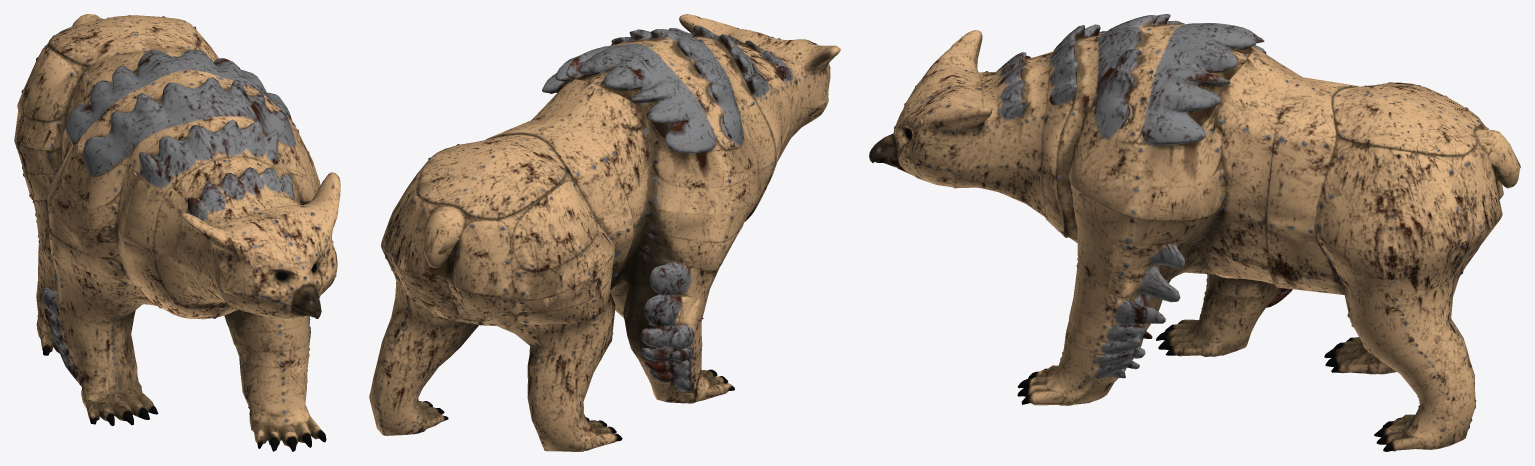
The model's file is MZ4250 - Clockwork Owlbear - Bronze Rusty.glb.
3 renders of one model, left to right at view 1: azimuth 30°, elevation 25°; view 2: azimuth 150°, elevation 25°; view 3: azimuth 270°, elevation 25°, orthographic. The views are drawn at different scales.
Parts seen in each view (by area): view 1: Clockwork Owlbear_low.001; view 2: Clockwork Owlbear_low.001; view 3: Clockwork Owlbear_low.001.
Part boxes in pixels (box(x1,y1,x2,y2)): Clockwork Owlbear_low.001: box(14, 14, 340, 451); Clockwork Owlbear_low.001: box(369, 14, 840, 451); Clockwork Owlbear_low.001: box(869, 14, 1520, 451).
Size of the model in its own units: 1 by 1.17 by 2.
1 material, 1 textured.
